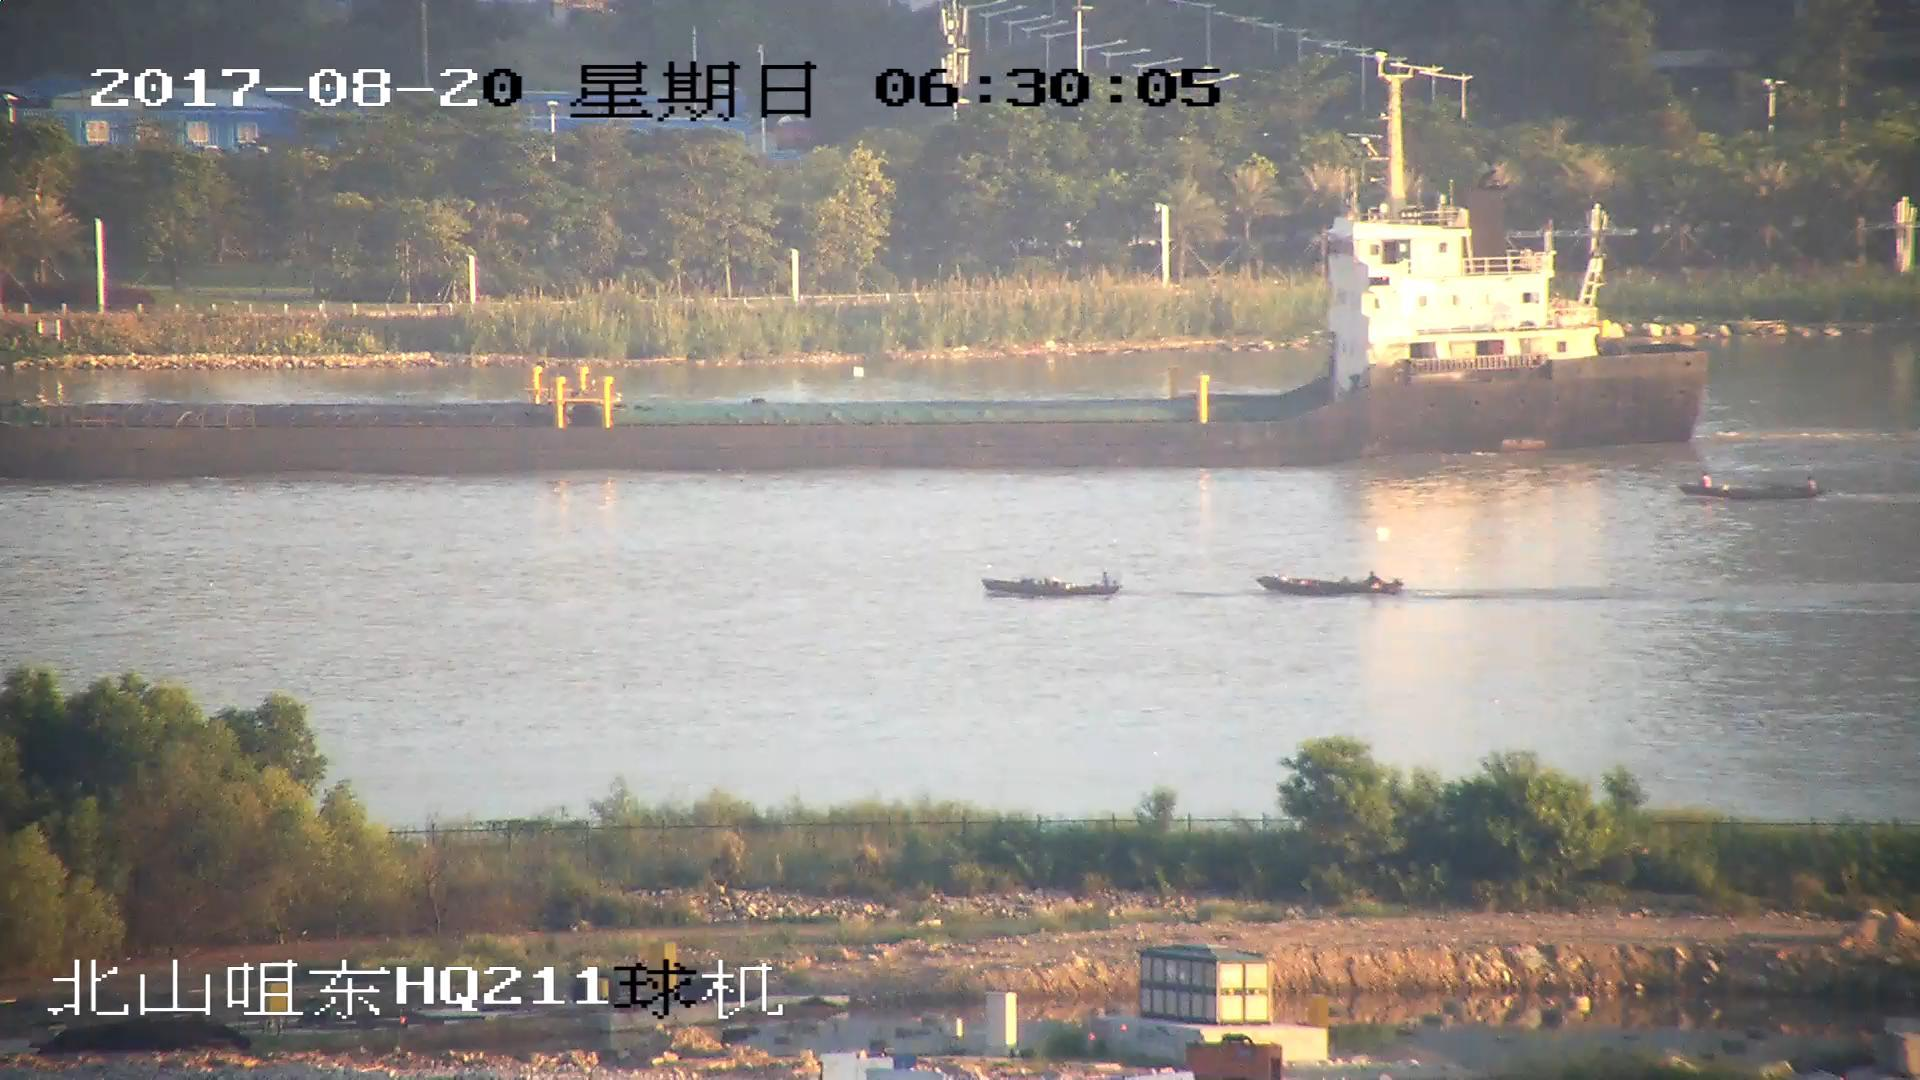Ship: (3, 124, 1714, 475), (1680, 471, 1816, 505), (1261, 568, 1402, 597), (984, 574, 1124, 601)
